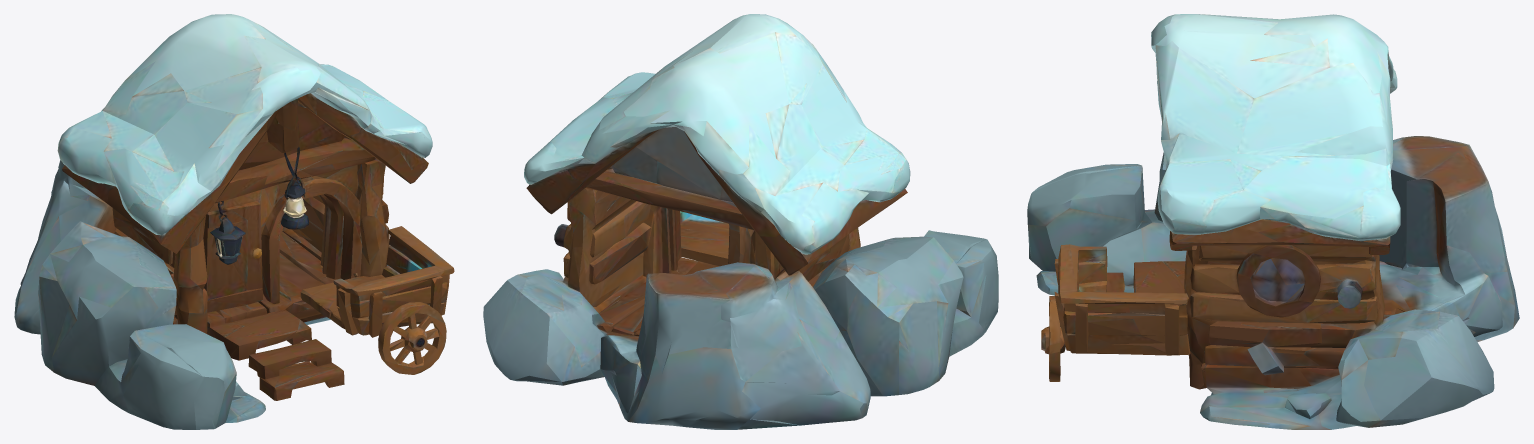
Rendered from miner_camp.glb.
The picture shows the model from 3 angles, left to right: view 1: azimuth 30°, elevation 25°; view 2: azimuth 150°, elevation 25°; view 3: azimuth 270°, elevation 25°; orthographic projection. The views are drawn at different scales.
Size of the model in its own units: 1.63 by 1.19 by 1.65.
Materials: 1 (1 with a texture image).
